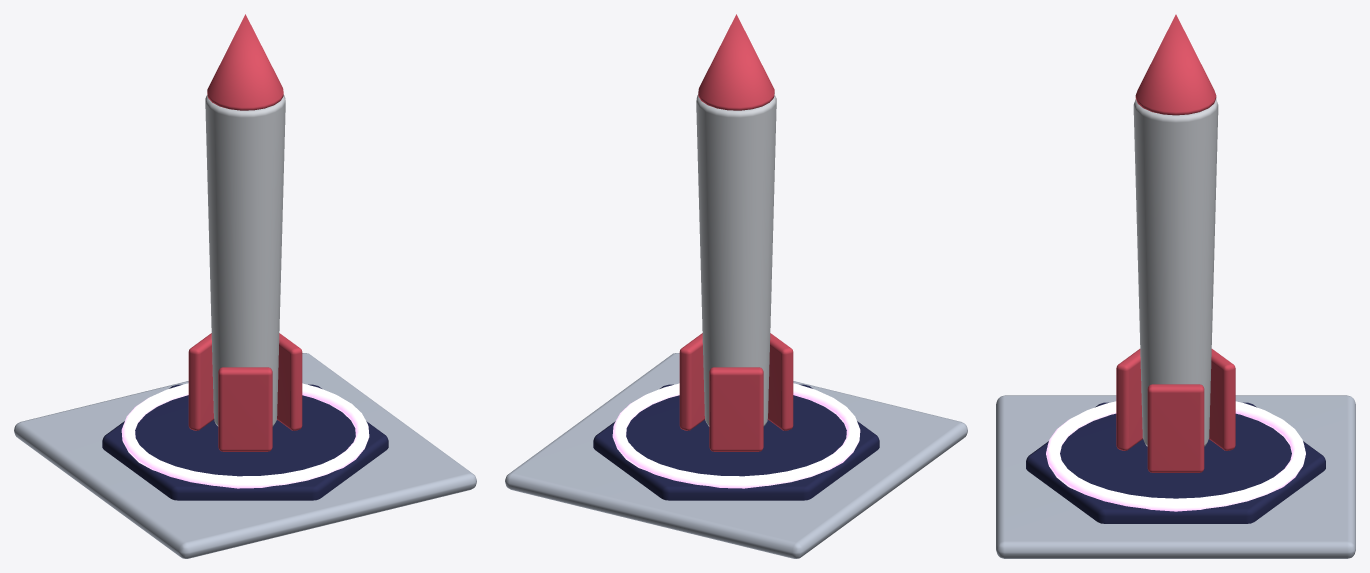
3 views of the same model, side by side, from view 1: azimuth 30°, elevation 25°; view 2: azimuth 150°, elevation 25°; view 3: azimuth 270°, elevation 25° (orthographic). The views are drawn at different scales.
Visible parts, largest first — view 1: Cube; view 2: Cube; view 3: Cube.
Boxes of the visible parts, x1,y1,x2,y2 form: Cube: (14, 14, 476, 558); Cube: (505, 14, 967, 558); Cube: (996, 14, 1355, 558).
Bounding box in the file's own units: 0.76 × 1.1 × 0.76.
